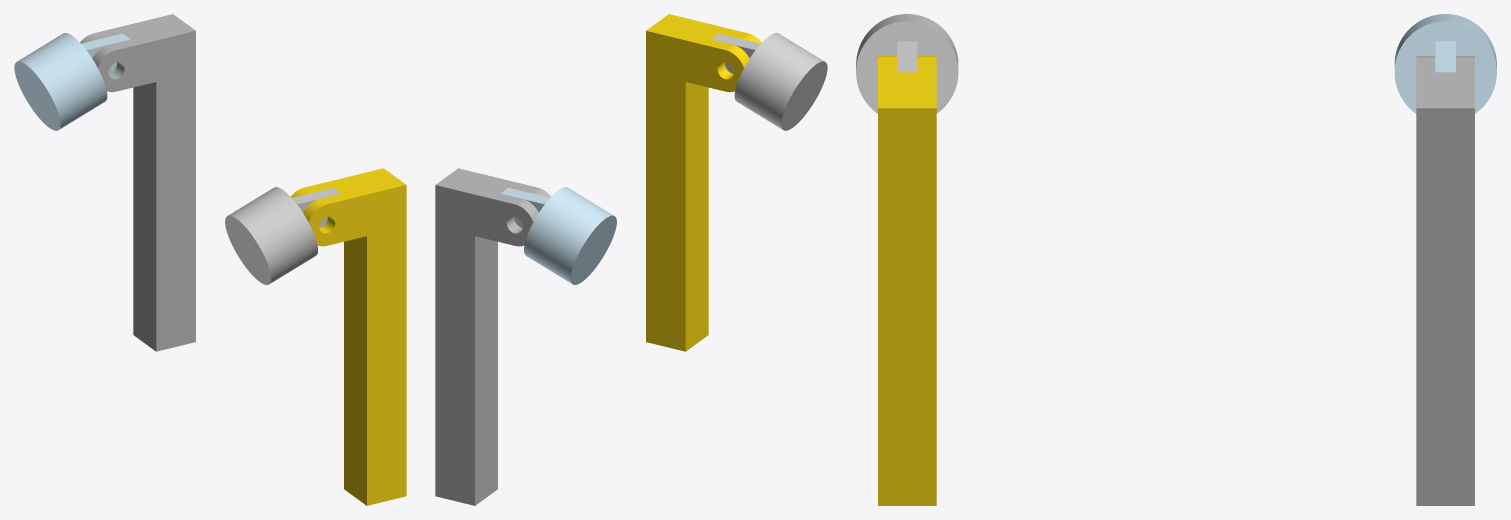
Rendered from projecteur.glb.
3 views of the same model, side by side, from view 1: azimuth 30°, elevation 25°; view 2: azimuth 150°, elevation 25°; view 3: azimuth 270°, elevation 25° (orthographic). The views are drawn at different scales.
Visible parts, largest first — view 1: PIED_D, PIED_G, projecteurG, projecteurD; view 2: PIED_G, PIED_D, projecteurD, projecteurG; view 3: PIED_G, PIED_D, projecteurG, projecteurD.
Part boxes in pixels (bbox=[...]): PIED_D: bbox=[290, 168, 406, 505]; PIED_G: bbox=[80, 14, 195, 351]; projecteurG: bbox=[225, 187, 341, 284]; projecteurD: bbox=[14, 33, 130, 130]; PIED_G: bbox=[435, 168, 551, 505]; PIED_D: bbox=[646, 14, 761, 351]; projecteurD: bbox=[500, 187, 616, 284]; projecteurG: bbox=[711, 33, 827, 130]; PIED_G: bbox=[1416, 56, 1474, 505]; PIED_D: bbox=[878, 56, 936, 505]; projecteurG: bbox=[856, 14, 958, 113]; projecteurD: bbox=[1394, 14, 1496, 113].
Size of the model in its own units: 0.0799 by 0.1565 by 0.219.
